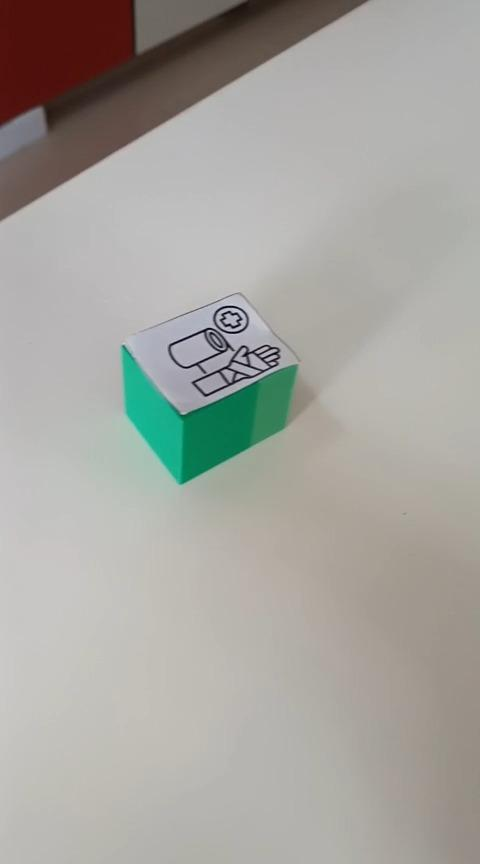Bandages: (120, 290, 301, 485)
